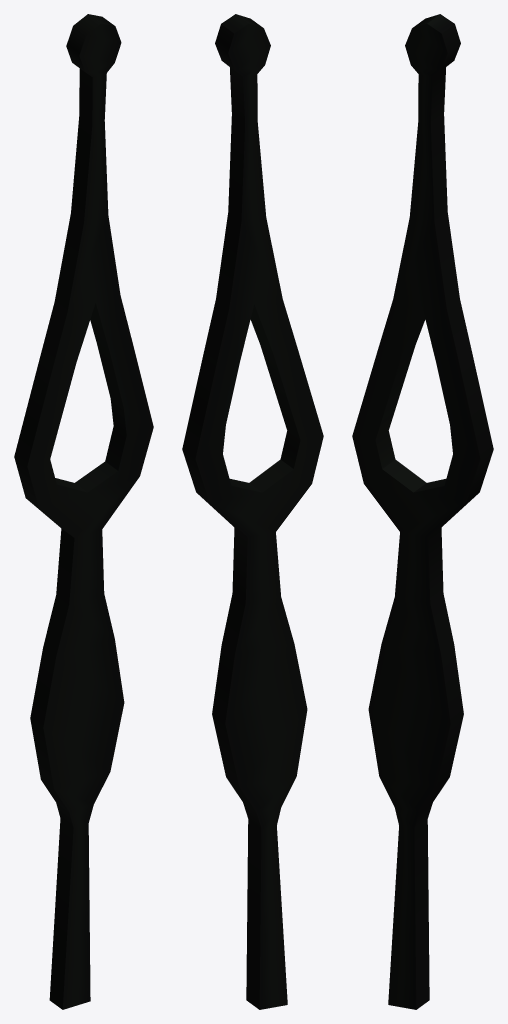
The model's file is ManecillaMinuto.obj.
3 renders of one model, left to right at view 1: azimuth 30°, elevation 25°; view 2: azimuth 210°, elevation 25°; view 3: azimuth 330°, elevation 25°, orthographic.
Parts seen in each view (by area): view 1: minuteroG_Material_#3; view 2: minuteroG_Material_#3; view 3: minuteroG_Material_#3.
Boxes of the visible parts, x1,y1,x2,y2 form: minuteroG_Material_#3: (14, 14, 153, 1009); minuteroG_Material_#3: (182, 14, 323, 1009); minuteroG_Material_#3: (352, 14, 493, 1009).
Size of the model in its own units: 0.5498 by 4.06 by 0.0984.
